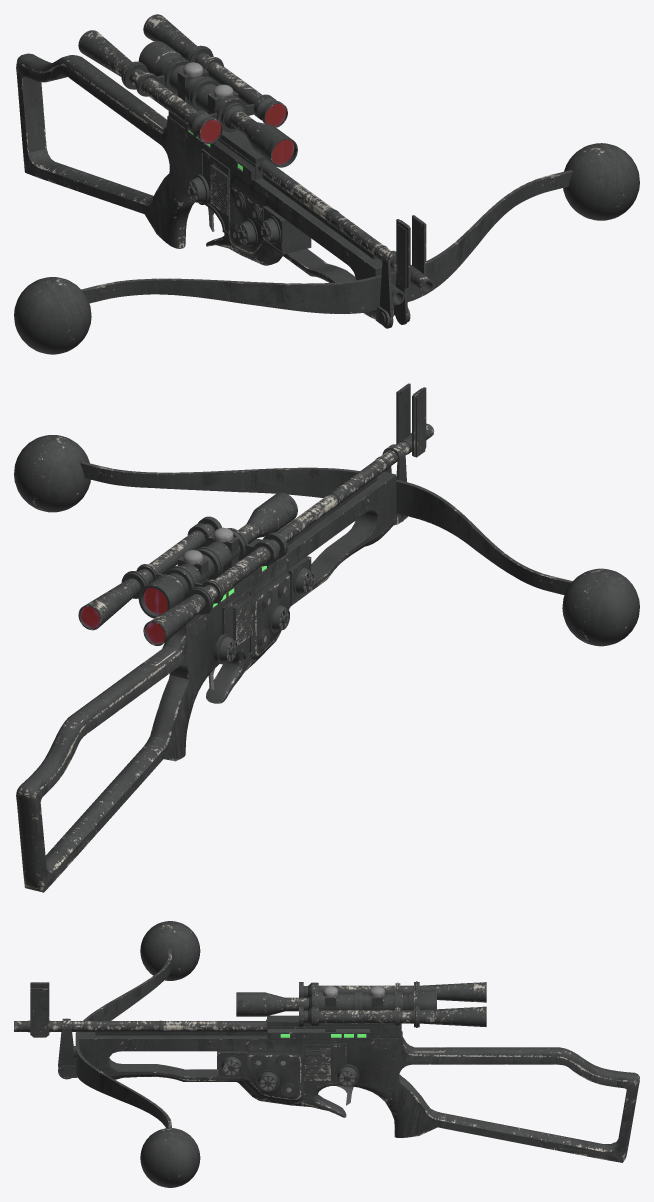
3 views of the same model, one above another, from view 1: azimuth 30°, elevation 25°; view 2: azimuth 150°, elevation 25°; view 3: azimuth 270°, elevation 25° (orthographic). The views are drawn at different scales.
Visible parts, largest first — view 1: Bowcaster_low; view 2: Bowcaster_low; view 3: Bowcaster_low.
Boxes of the visible parts, x1,y1,x2,y2 form: Bowcaster_low: (14,14,639,354); Bowcaster_low: (14,383,639,892); Bowcaster_low: (14,921,639,1187).
Size of the model in its own units: 1.76 by 0.6122 by 2.
Materials: 1 (1 with a texture image).
